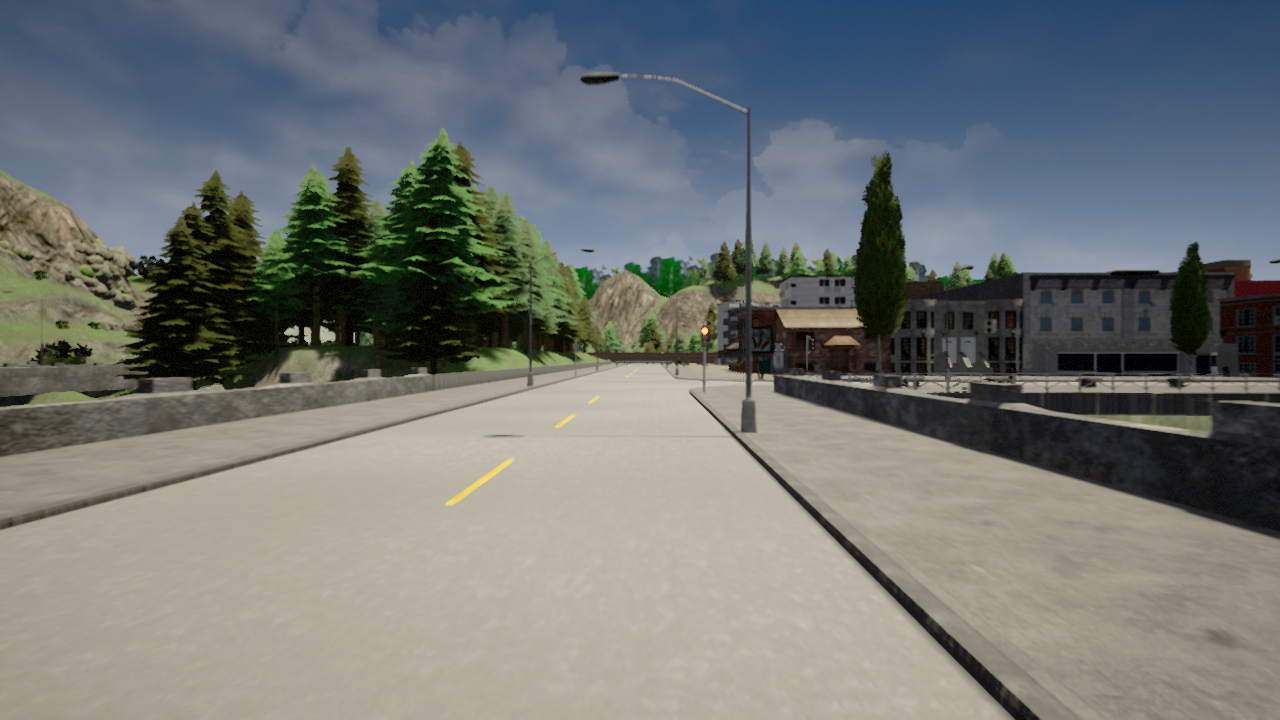red: (700, 325, 711, 348)
